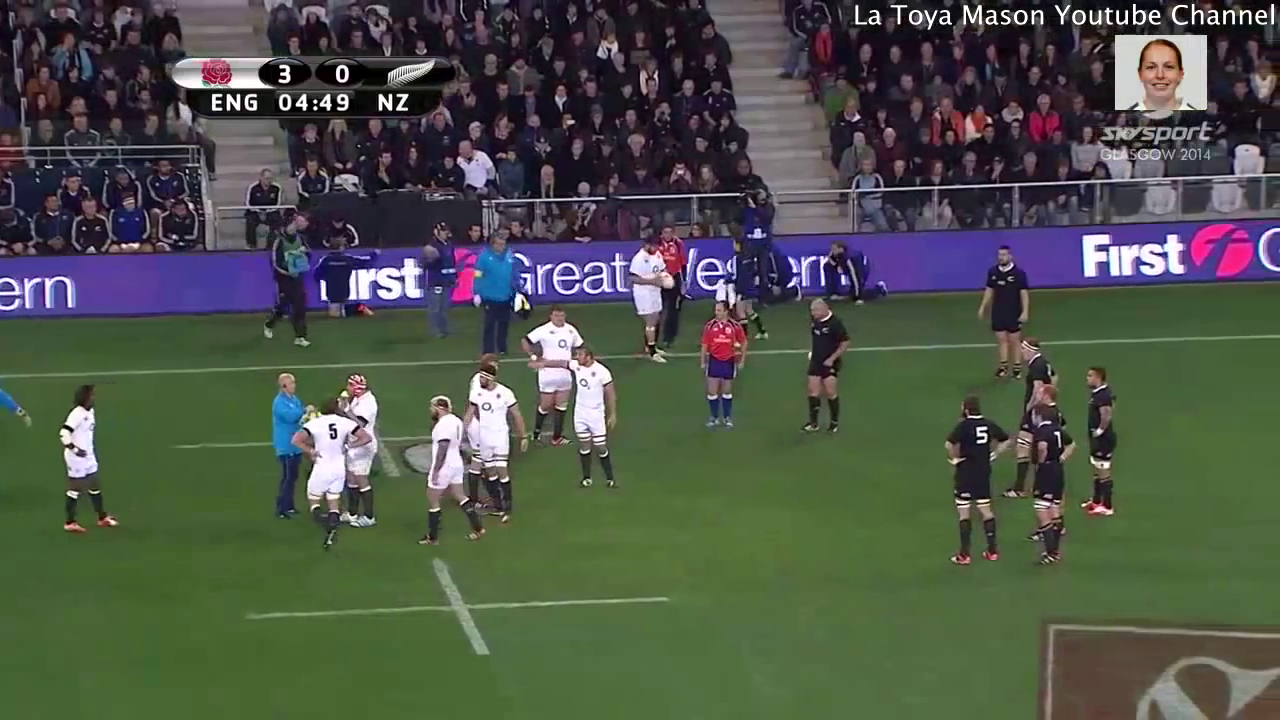10_metre: (230, 552, 677, 663), (168, 412, 561, 481)
ball: (645, 257, 676, 302)
player: (521, 344, 623, 492), (928, 384, 1007, 574), (291, 395, 377, 563), (50, 380, 132, 542), (416, 390, 490, 548), (515, 297, 584, 459), (1016, 396, 1073, 580), (466, 363, 526, 534), (1072, 351, 1129, 524), (971, 236, 1034, 384), (256, 362, 311, 527), (793, 292, 852, 443), (641, 213, 694, 363), (624, 222, 679, 364), (342, 369, 385, 531), (694, 297, 743, 434), (1006, 328, 1065, 401)
